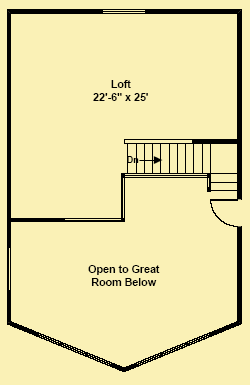door: (209, 196, 239, 227)
stairs: (122, 137, 237, 191)
window: (98, 5, 147, 16)
